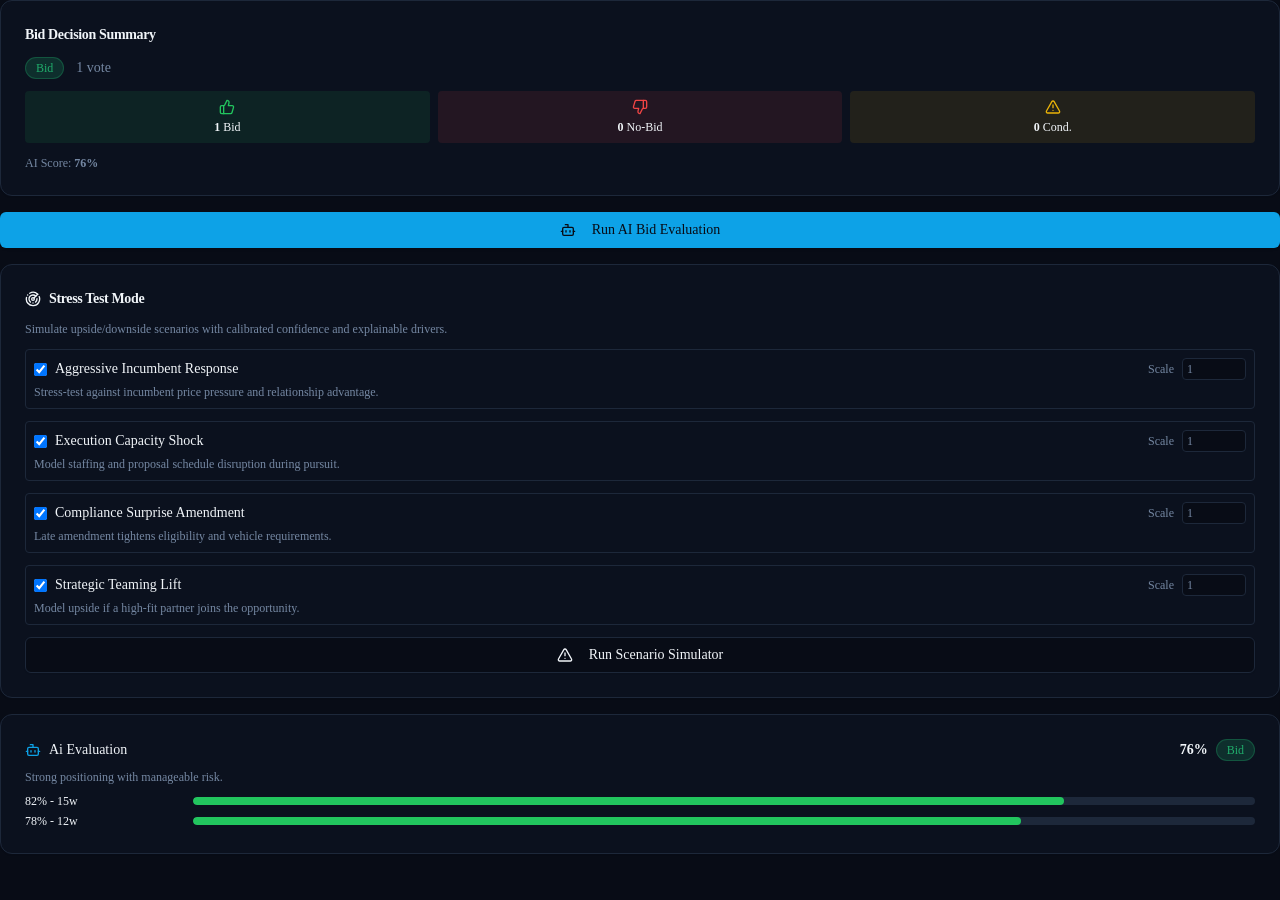
Scenario: BidScorecardPanel › runs stress-test simulation and renders calibrated scenario output
Expected: the heading "Bid Decision Summary" is shown, [25,27,156,42]
Click the button "Run Scenario Simulator" at (640, 655), box [25,637,1255,673]
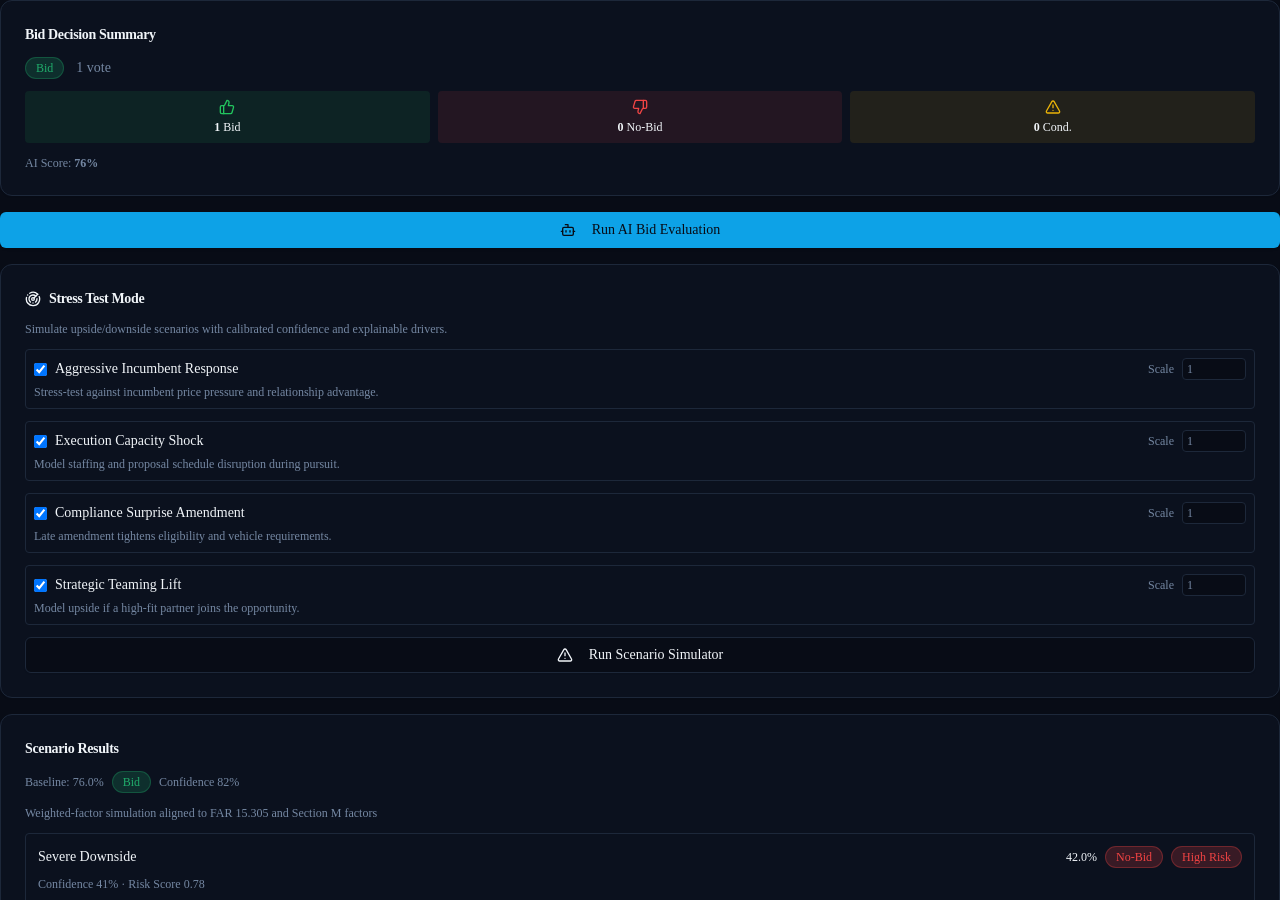
Now the heading "Scenario Results" is shown, box [25,741,119,756]
Now the text "Severe Downside" is shown, box [38,847,136,867]
Now the text "High Risk" is shown, box [1171,846,1242,868]
